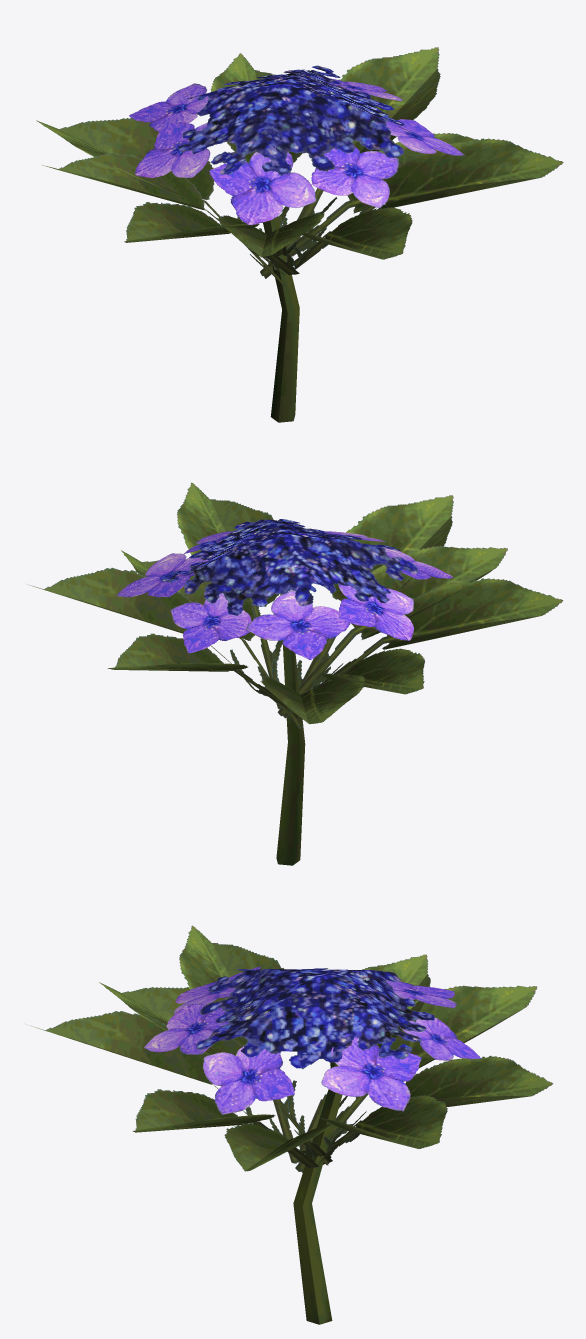
File: Plant_3002_zhiwu01_hua10.FBX
The picture shows the model from 3 angles, top to bottom: view 1: azimuth 30°, elevation 25°; view 2: azimuth 150°, elevation 25°; view 3: azimuth 270°, elevation 25°; orthographic projection. The views are drawn at different scales.
Parts seen in each view (by area): view 1: Plant_3002_zhiwu01_hua10; view 2: Plant_3002_zhiwu01_hua10; view 3: Plant_3002_zhiwu01_hua10.
Part boxes in pixels (<box>): Plant_3002_zhiwu01_hua10: <box>36,47,563,422</box>; Plant_3002_zhiwu01_hua10: <box>28,482,563,865</box>; Plant_3002_zhiwu01_hua10: <box>30,925,553,1324</box>.
Bounding box in the file's own units: 97.61 × 64.69 × 95.69.
